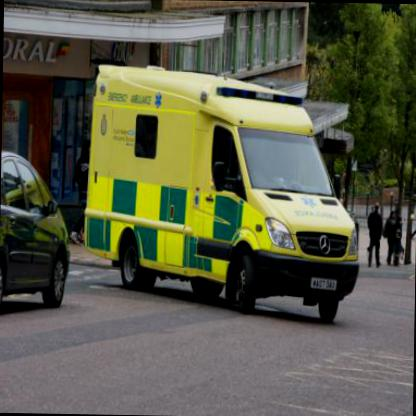truck: (80, 63, 362, 317)
